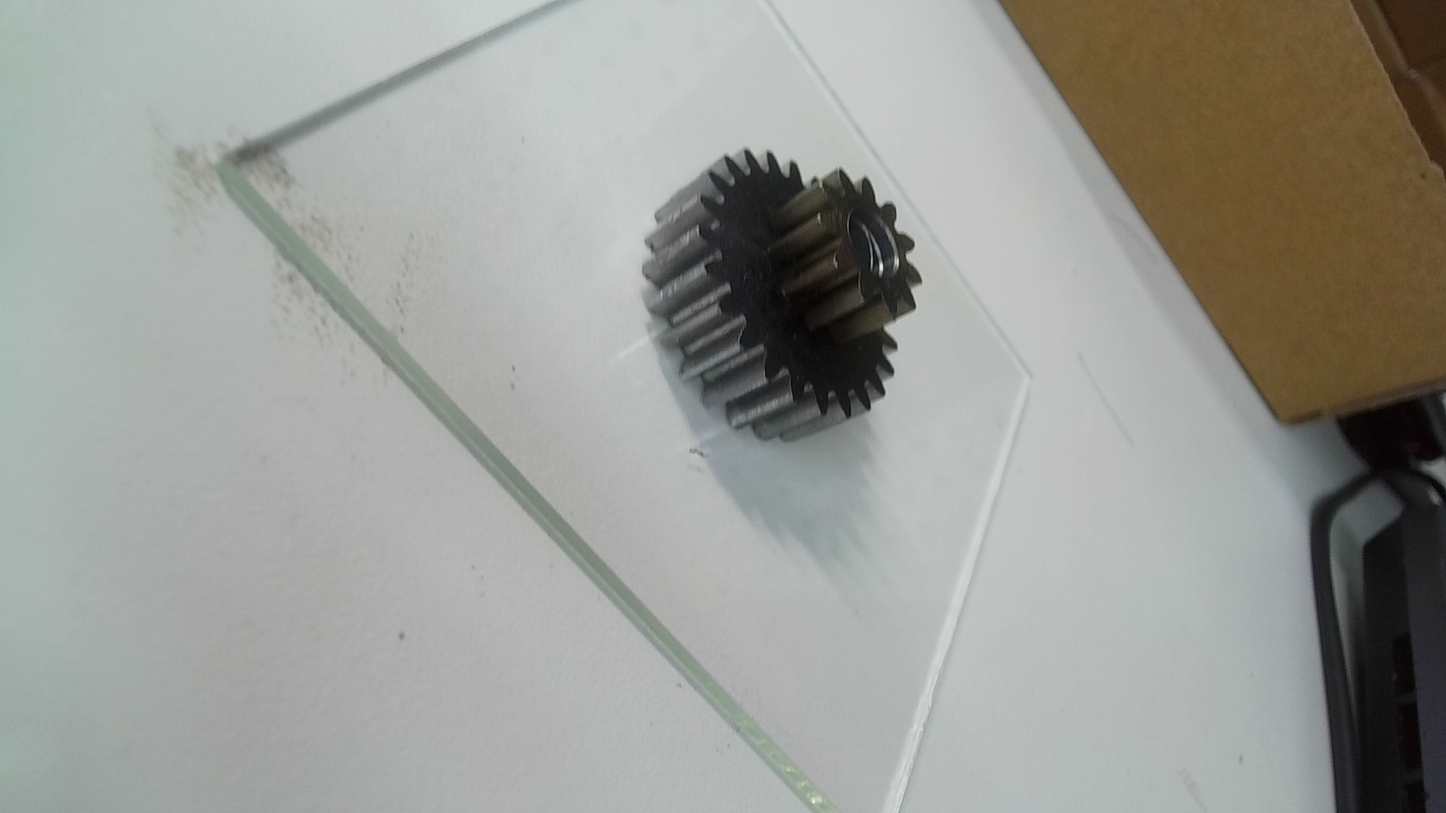gear: (639, 142, 923, 445)
